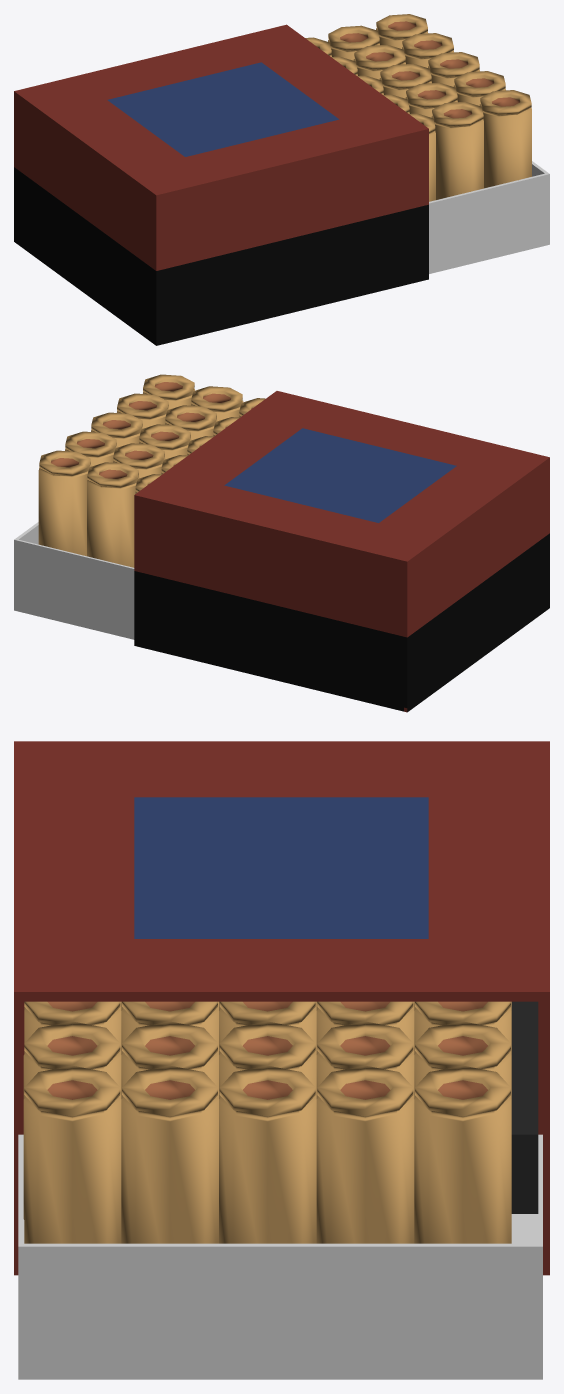
The model's file is pistolet patron.fbx.
3 views of the same model, one above another, from view 1: azimuth 30°, elevation 25°; view 2: azimuth 150°, elevation 25°; view 3: azimuth 270°, elevation 25° (orthographic). The views are drawn at different scales.
Parts seen in each view (by area): view 1: patron pistalet; view 2: patron pistalet; view 3: patron pistalet.
Part boxes in pixels (x1,y1,x2,y2): patron pistalet: (14,14,549,345); patron pistalet: (14,374,549,712); patron pistalet: (14,741,549,1379).
Size of the model in its own units: 1641 by 598 by 1026.
Materials: 1 (1 with a texture image).
